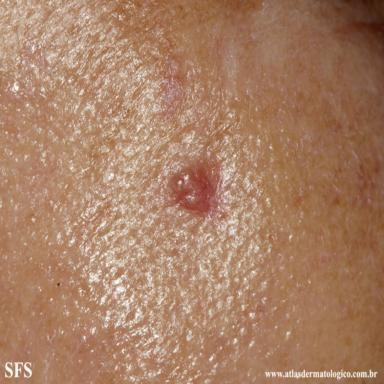basal-cell-carcinoma: (169, 157, 221, 212)
